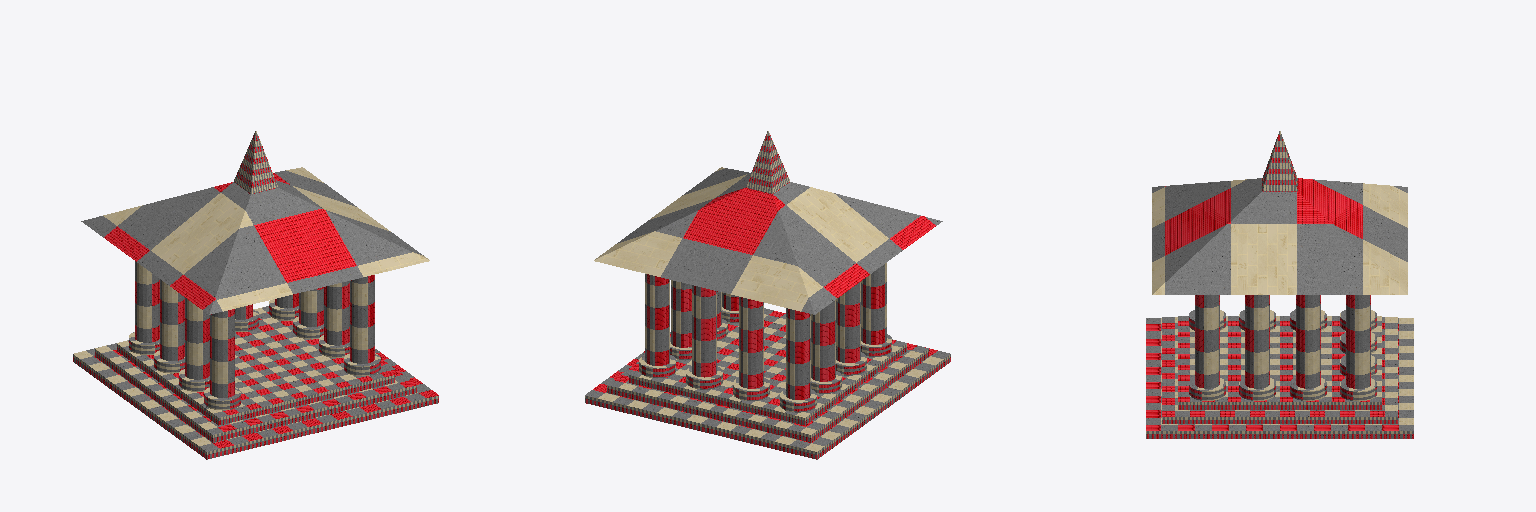
The picture shows the model from 3 angles: view 1: azimuth 30°, elevation 25°; view 2: azimuth 150°, elevation 25°; view 3: azimuth 270°, elevation 25°; orthographic projection.
Visible parts, largest first — view 1: Roof, Box003, Box006, Box005, Cylinder019, Cylinder009, Cylinder011, Cylinder012, Cylinder013, Cylinder017, Cylinder018, Cylinder020 (+1 smaller); view 2: Roof, Box003, Box006, Box005, Cylinder016, Cylinder014, Cylinder015, Cylinder013, Cylinder009, Cylinder012, Cylinder011, Cylinder018 (+4 smaller); view 3: Roof, Box003, Box006, Box005, Cylinder016, Cylinder017, Cylinder019, Cylinder018, Cylinder028, Cylinder029, Cylinder027, Cylinder026.
Boxes of the visible parts, <box> form: Roof: <box>81,131,429,314</box>; Box003: <box>117,306,394,425</box>; Box006: <box>73,306,438,459</box>; Box005: <box>95,340,416,442</box>; Cylinder019: <box>350,275,374,363</box>; Cylinder009: <box>210,309,234,397</box>; Cylinder011: <box>185,298,209,379</box>; Cylinder012: <box>160,279,184,360</box>; Cylinder013: <box>135,261,159,342</box>; Cylinder017: <box>324,281,349,345</box>; Cylinder018: <box>299,287,323,326</box>; Cylinder020: <box>204,387,240,410</box>; Roof: <box>594,131,942,314</box>; Box003: <box>629,308,906,425</box>; Box006: <box>585,308,950,459</box>; Box005: <box>607,309,928,442</box>; Cylinder016: <box>645,274,669,365</box>; Cylinder014: <box>739,297,763,388</box>; Cylinder015: <box>692,285,716,377</box>; Cylinder013: <box>786,308,810,399</box>; Cylinder009: <box>861,263,886,344</box>; Cylinder012: <box>811,300,835,381</box>; Cylinder011: <box>836,282,860,362</box>; Cylinder018: <box>671,280,691,347</box>; Roof: <box>1152,131,1407,294</box>; Box003: <box>1178,316,1381,409</box>; Box006: <box>1146,318,1413,438</box>; Box005: <box>1162,317,1397,423</box>; Cylinder016: <box>1346,295,1370,388</box>; Cylinder017: <box>1245,295,1269,388</box>; Cylinder019: <box>1195,295,1219,388</box>; Cylinder018: <box>1296,295,1320,388</box>; Cylinder028: <box>1290,378,1326,400</box>; Cylinder029: <box>1189,378,1225,400</box>; Cylinder027: <box>1239,378,1275,400</box>; Cylinder026: <box>1340,378,1376,401</box>.
Size of the model in its own units: 124 by 128 by 124.
4 materials, 1 textured.